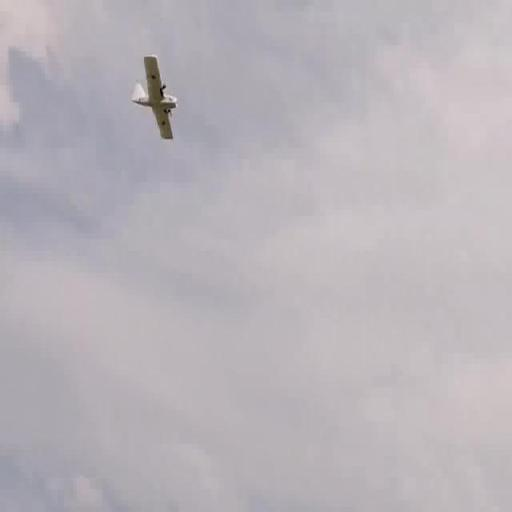uav: (128, 48, 182, 149)
